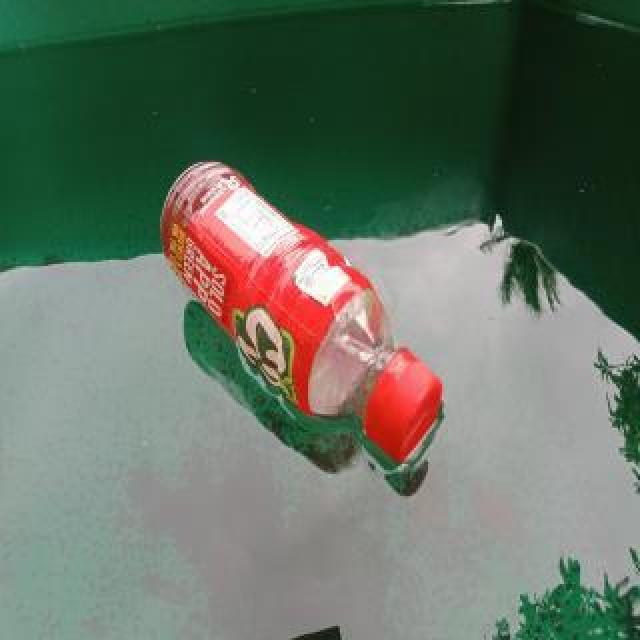bottle: (157, 158, 445, 466)
